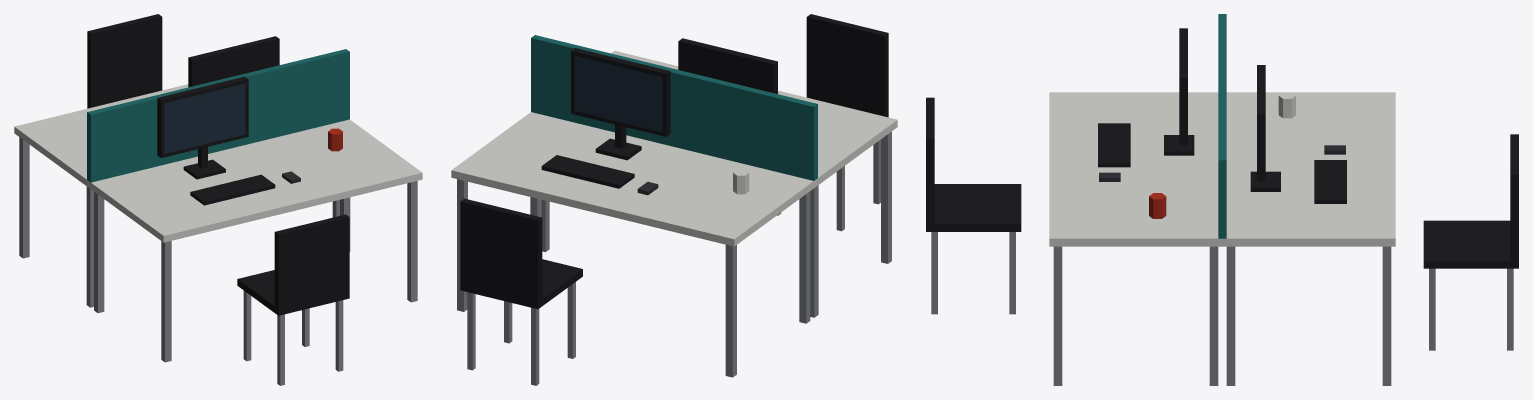
File: prop_desk-pod.glb
3 renders of one model, left to right at view 1: azimuth 30°, elevation 25°; view 2: azimuth 150°, elevation 25°; view 3: azimuth 270°, elevation 25°, orthographic. The views are drawn at different scales.
Visible parts, largest first — view 1: body; view 2: body; view 3: body.
Boxes of the visible parts, x1,y1,x2,y2 form: body: (14,14,422,385); body: (451,14,897,385); body: (926,14,1518,385).
Size of the model in its own units: 1.6 by 1.24 by 2.74.
